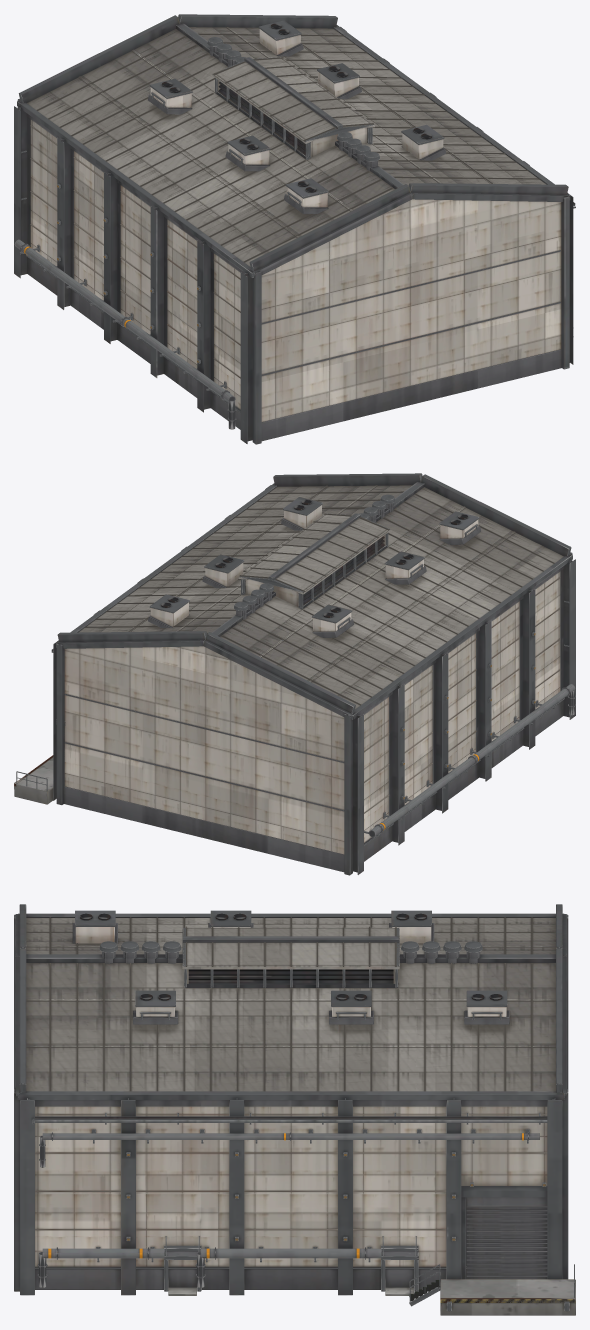
File: shedSegment.glb
3 renders of one model, top to bottom at view 1: azimuth 30°, elevation 25°; view 2: azimuth 150°, elevation 25°; view 3: azimuth 270°, elevation 25°, orthographic. The views are drawn at different scales.
Visible parts, largest first — view 1: shedSegment; view 2: shedSegment; view 3: shedSegment.
Boxes of the visible parts, left/top/right/bottom form: shedSegment: left=14, top=14, right=575, bottom=444; shedSegment: left=14, top=473, right=575, bottom=875; shedSegment: left=14, top=904, right=575, bottom=1315.
Bounding box in the file's own units: 33.43 × 19.68 × 37.3.
1 material, 1 textured.
